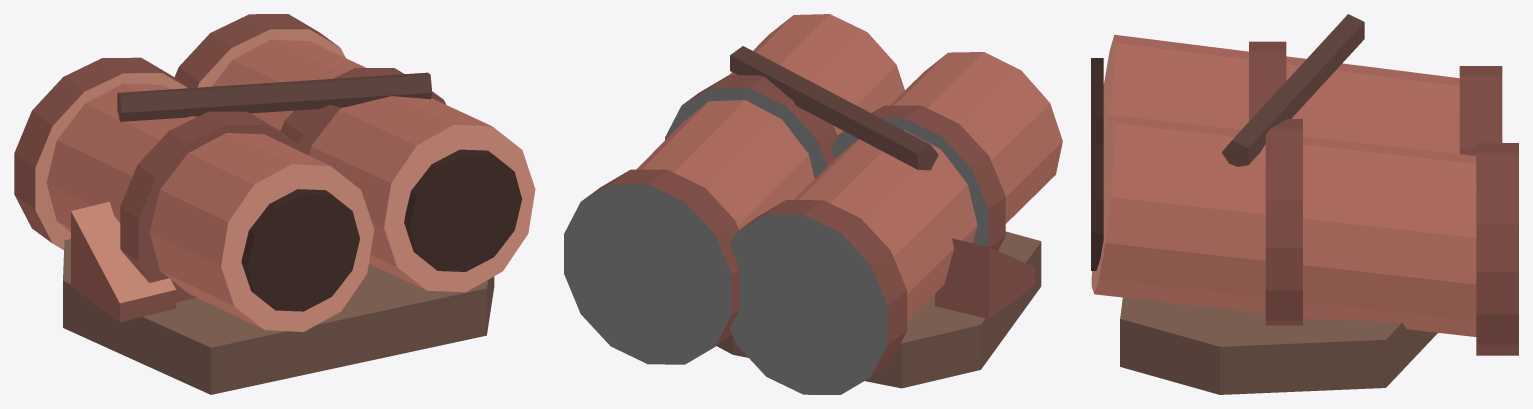
File: Building_AncientPipes.glb
3 renders of one model, left to right at view 1: azimuth 30°, elevation 25°; view 2: azimuth 150°, elevation 25°; view 3: azimuth 270°, elevation 25°, orthographic. The views are drawn at different scales.
Parts seen in each view (by area): view 1: AncientPipes; view 2: AncientPipes; view 3: AncientPipes.
Part boxes in pixels (left/top/right/bottom): AncientPipes: left=14, top=14, right=535, bottom=394; AncientPipes: left=564, top=14, right=1062, bottom=394; AncientPipes: left=1091, top=14, right=1518, bottom=394.
Bounding box in the file's own units: 0.8125 × 0.4685 × 0.8047.
1 material, 1 textured.
